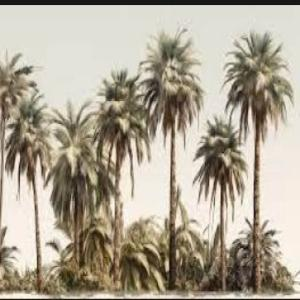palm tree: (221, 29, 293, 293), (136, 25, 204, 290), (87, 67, 151, 289), (4, 87, 57, 291), (44, 98, 102, 277), (192, 112, 248, 291), (0, 46, 37, 269)
